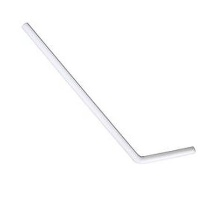drinking_straw: (17, 18, 199, 169)
